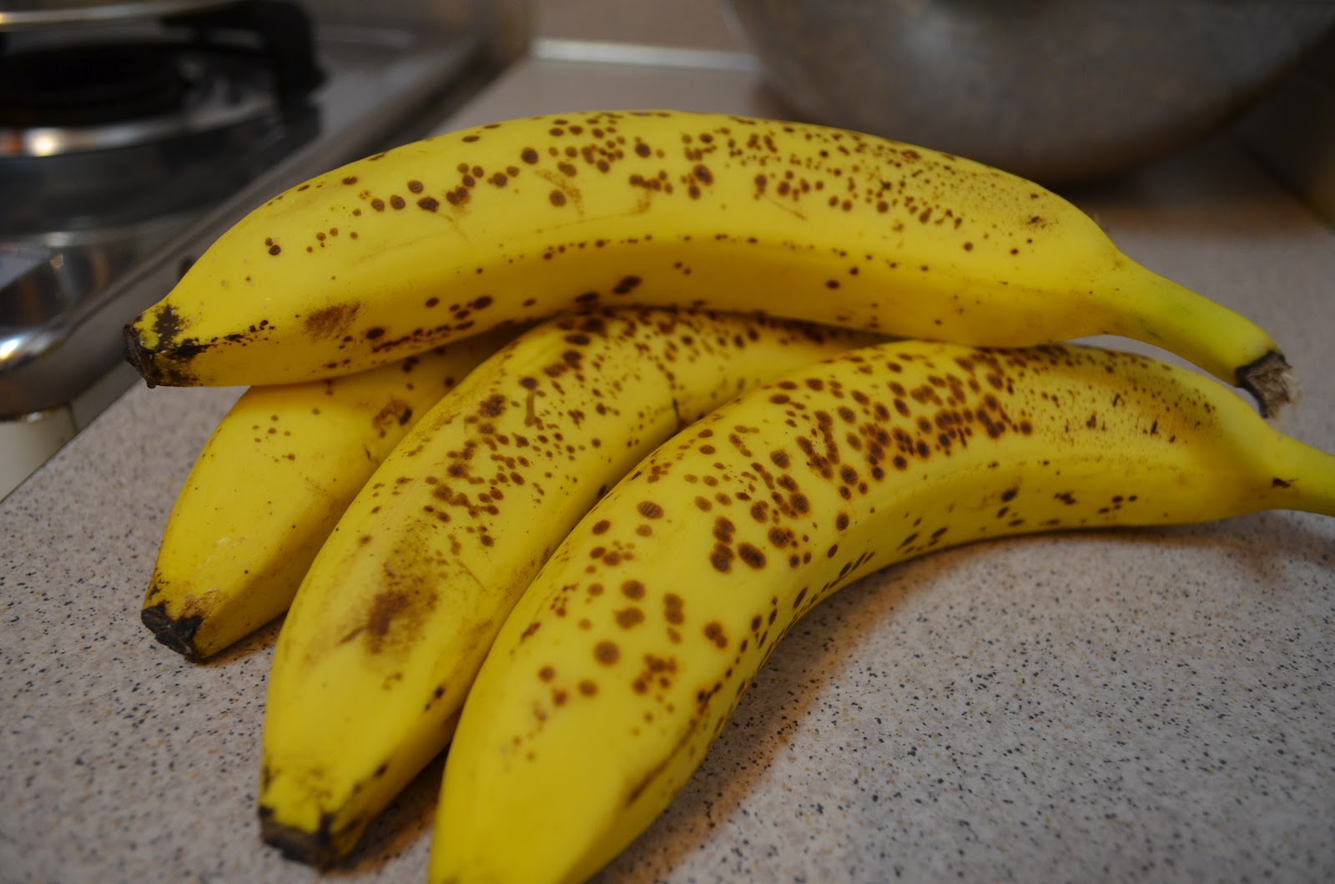banana: (110, 105, 1335, 884)
